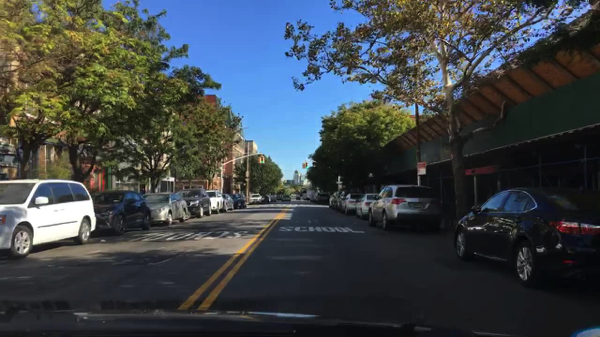car: (451, 188, 599, 286), (0, 180, 97, 258), (366, 185, 443, 233), (89, 189, 151, 236), (142, 191, 188, 226), (177, 189, 211, 219), (352, 192, 380, 220), (344, 194, 363, 218), (206, 191, 226, 213), (335, 189, 348, 213), (227, 193, 246, 209), (223, 192, 236, 213), (248, 193, 264, 206), (313, 191, 328, 204), (327, 191, 337, 208), (330, 192, 338, 211), (281, 194, 291, 203), (263, 195, 271, 204), (309, 191, 316, 201), (270, 195, 275, 202)
traffic light: (259, 155, 264, 165), (256, 154, 261, 163), (213, 181, 219, 186), (304, 162, 308, 169), (301, 163, 305, 169)
traffic sign: (417, 162, 425, 174), (216, 173, 226, 179), (335, 181, 343, 185)
truck: (305, 188, 315, 200), (301, 191, 306, 200)
